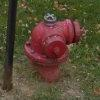Hydrant: (24, 12, 95, 91)
